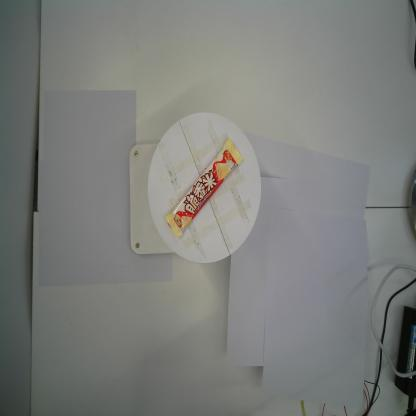Chocolate: (162, 135, 244, 239)
